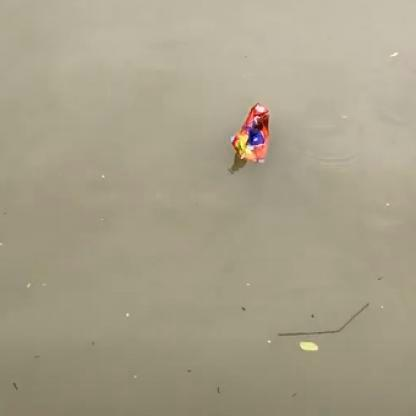Trash: (225, 98, 274, 165)
